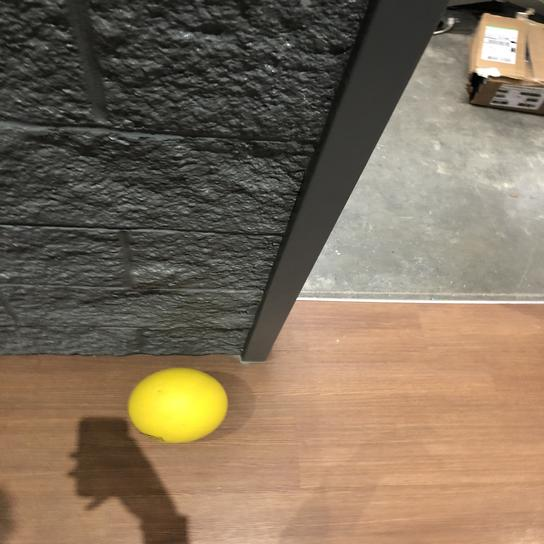ball: (123, 364, 233, 448)
